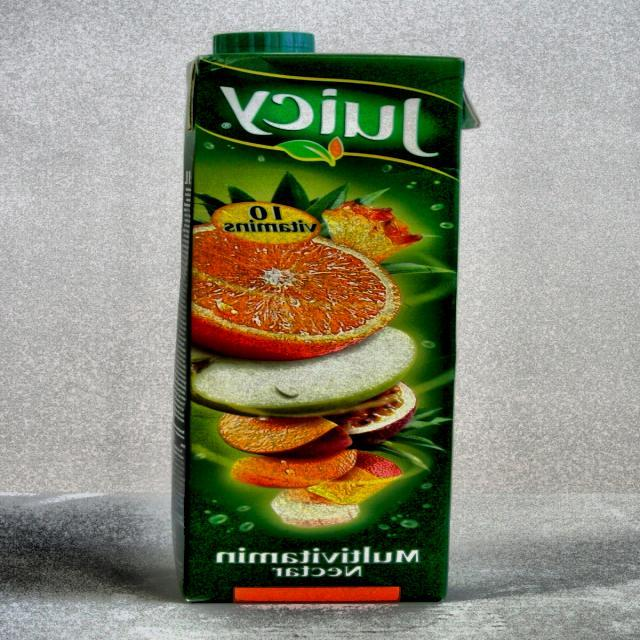cardboard: (172, 47, 478, 604)
